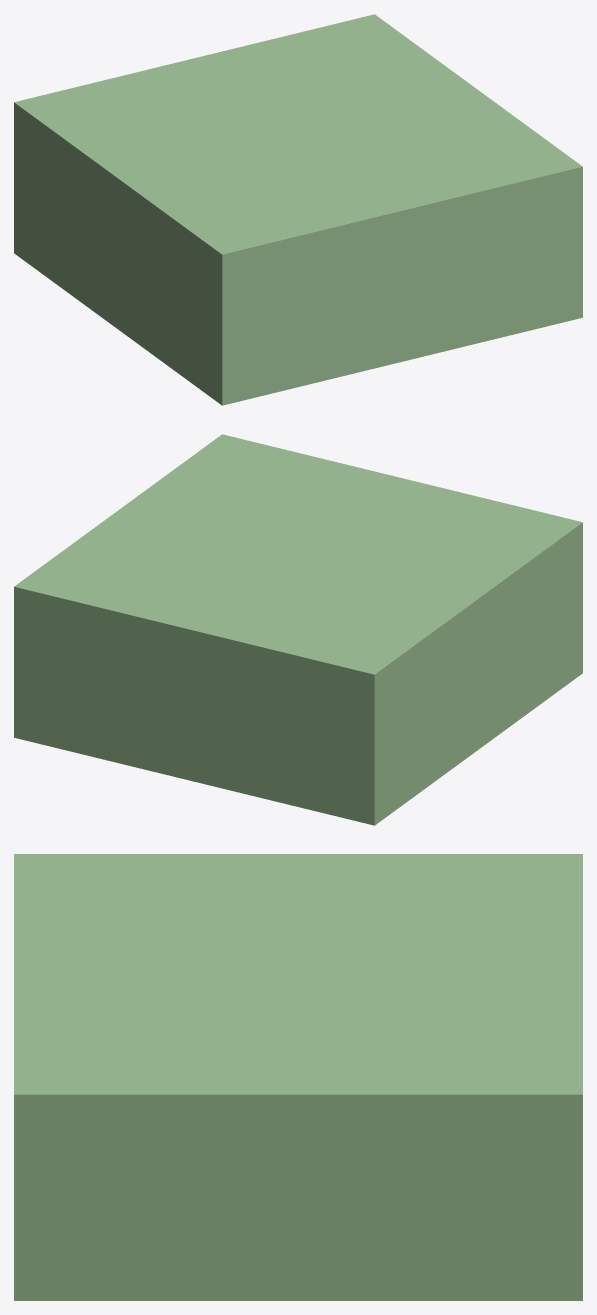
Rendered from tower-defense-classic--tile-108.glb.
3 views of the same model, one above another, from view 1: azimuth 30°, elevation 25°; view 2: azimuth 150°, elevation 25°; view 3: azimuth 270°, elevation 25° (orthographic). The views are drawn at different scales.
Parts seen in each view (by area): view 1: tile_108; view 2: tile_108; view 3: tile_108.
Boxes of the visible parts, x1,y1,x2,y2 form: tile_108: [14, 14, 582, 405]; tile_108: [14, 434, 582, 825]; tile_108: [14, 854, 582, 1300].
Bounding box in the file's own units: 1 × 0.4 × 1.
